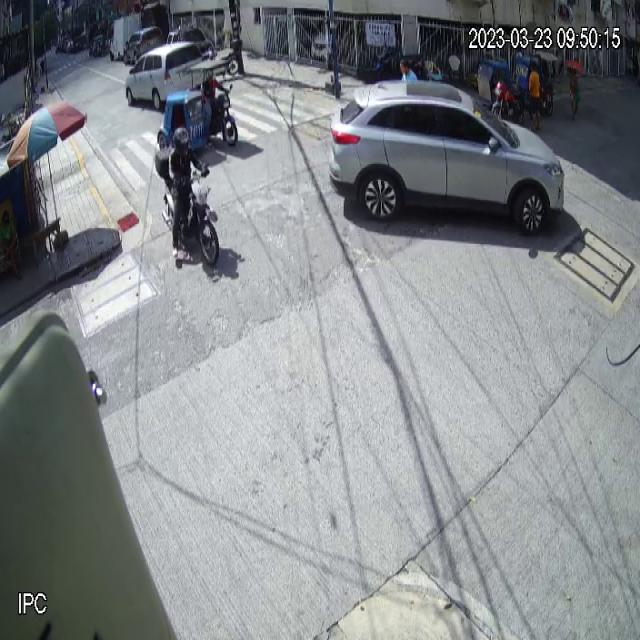Car: (330, 78, 565, 238)
Motorcycle: (154, 146, 222, 272)
Tricycle: (158, 58, 240, 151)
